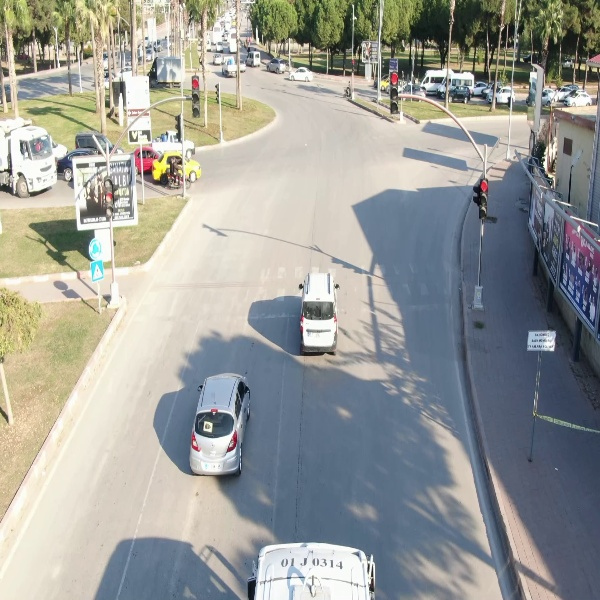car: (187, 370, 255, 477), (296, 268, 339, 359), (486, 85, 515, 106), (287, 64, 316, 84), (563, 89, 591, 108), (446, 84, 472, 104), (265, 56, 288, 75), (244, 51, 264, 67), (212, 51, 224, 68)
